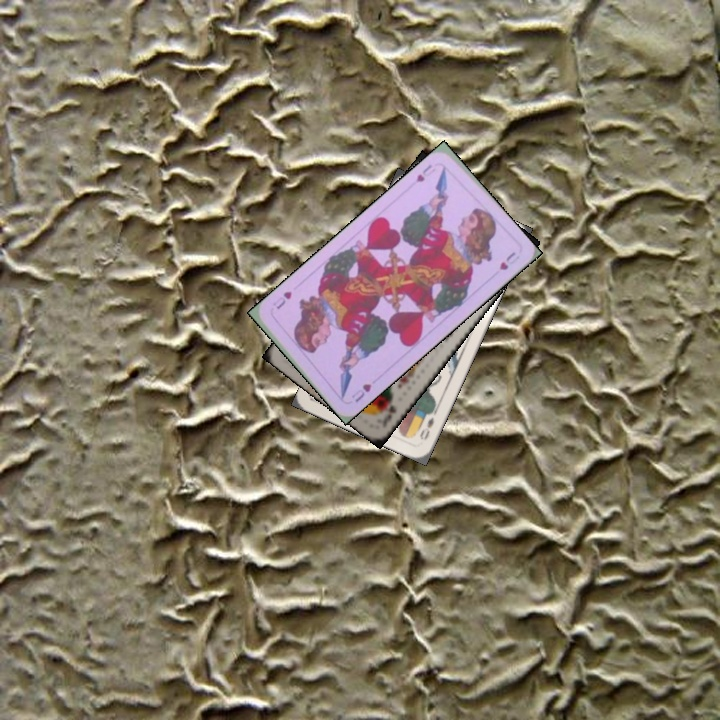EO: (415, 407, 439, 443)
HU: (347, 379, 374, 405), (412, 160, 438, 185)
SK: (381, 392, 399, 420)
